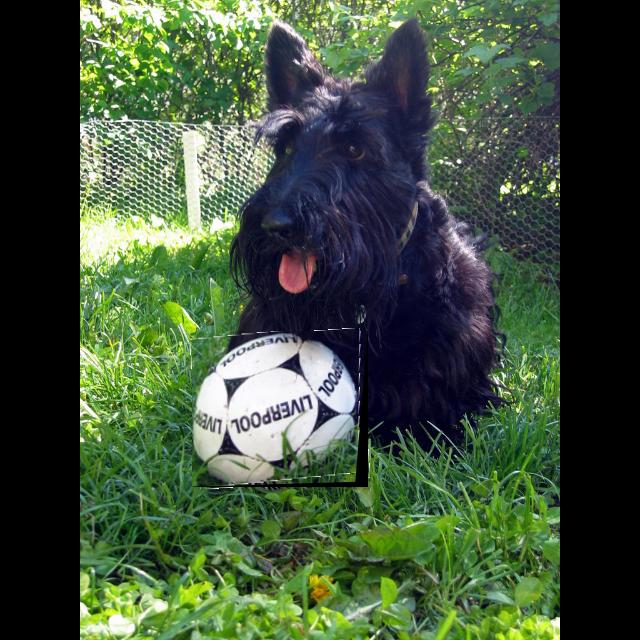Football: (192, 331, 368, 487)
